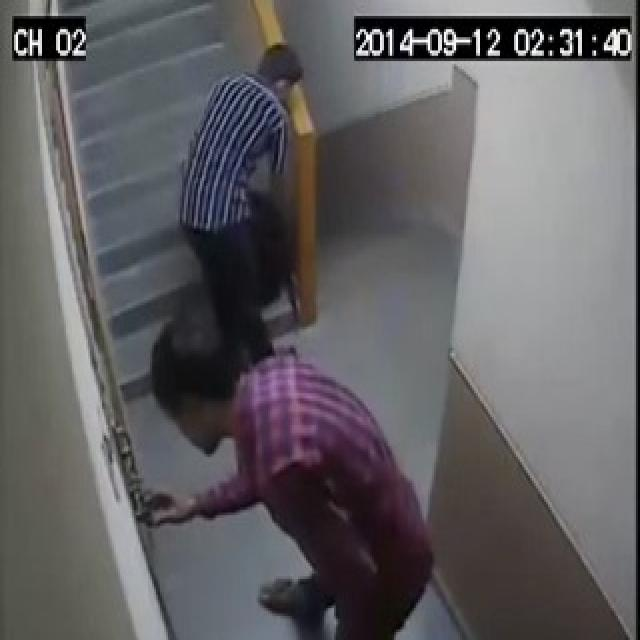thief: (134, 326, 450, 635), (157, 31, 314, 324)
